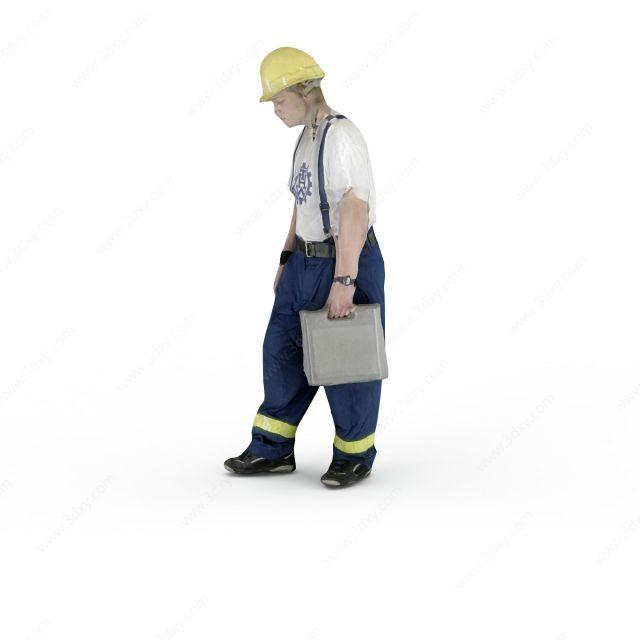safetyhat: (229, 42, 409, 505)
